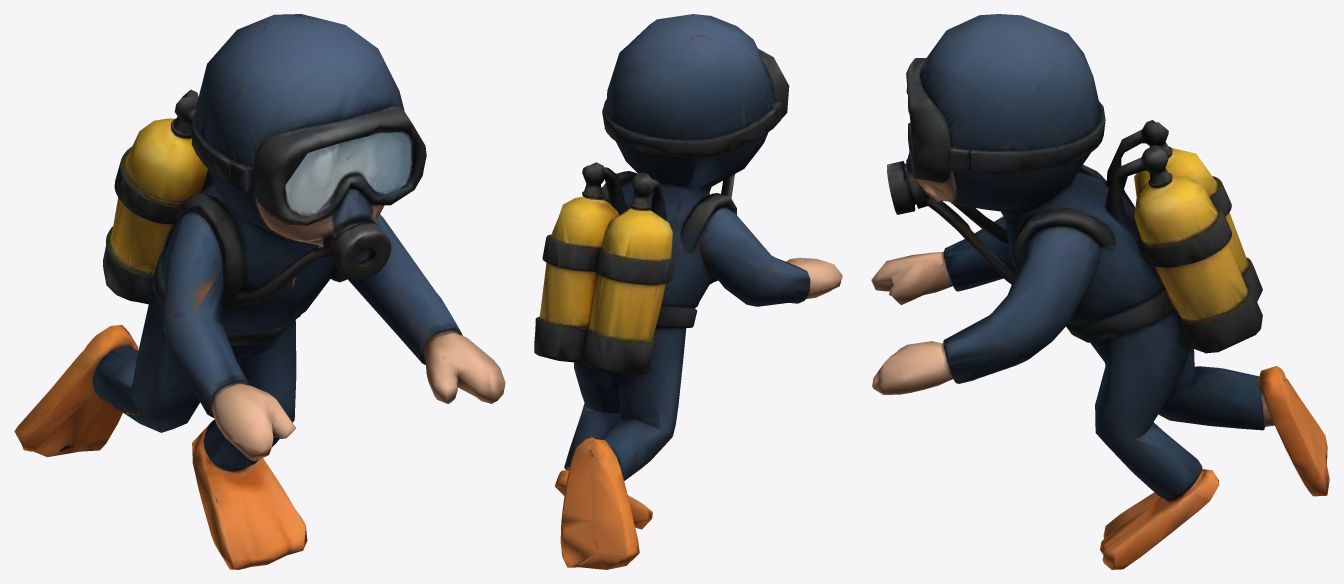
The model's file is diver_pbr.glb.
The picture shows the model from 3 angles, left to right: view 1: azimuth 30°, elevation 25°; view 2: azimuth 150°, elevation 25°; view 3: azimuth 270°, elevation 25°; orthographic projection. The views are drawn at different scales.
Parts seen in each view (by area): view 1: model.004; view 2: model.004; view 3: model.004.
Boxes of the visible parts, left/top/right/bottom form: model.004: left=14, top=14, right=505, bottom=569; model.004: left=534, top=14, right=842, bottom=569; model.004: left=871, top=14, right=1329, bottom=569.
Size of the model in its own units: 0.8724 by 1.82 by 1.45.
1 material, 1 textured.
